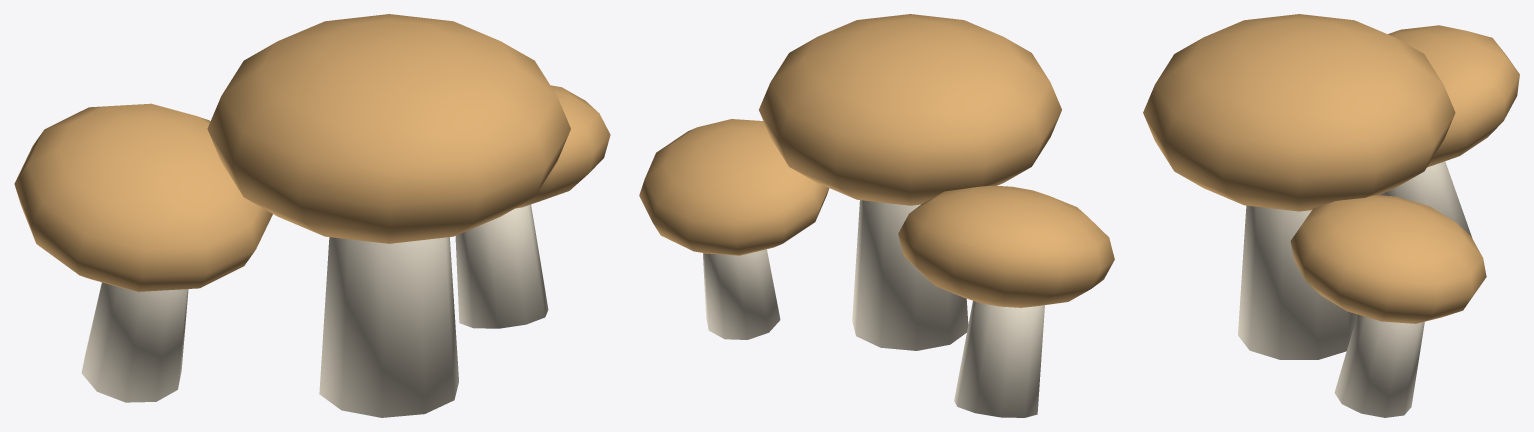
Rendered from seta_silvestre.glb.
The picture shows the model from 3 angles, left to right: view 1: azimuth 30°, elevation 25°; view 2: azimuth 150°, elevation 25°; view 3: azimuth 270°, elevation 25°; orthographic projection. The views are drawn at different scales.
Parts seen in each view (by area): view 1: SetaSilvestre; view 2: SetaSilvestre; view 3: SetaSilvestre.
Boxes of the visible parts, x1,y1,x2,y2 form: SetaSilvestre: (14,14,610,417); SetaSilvestre: (639,14,1114,417); SetaSilvestre: (1143,14,1519,417).
Bounding box in the file's own units: 0.4904 × 0.3001 × 0.3377.
